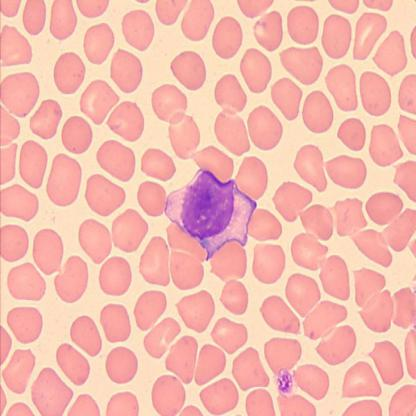Atypical lymphocyte: (166, 167, 258, 263)
